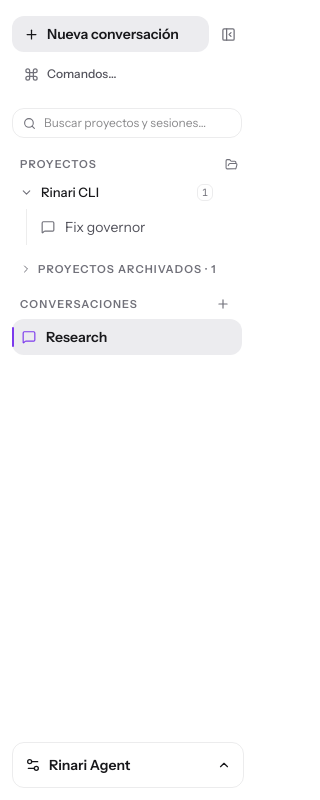
AppSidebar project and session lifecycle › separates project sessions from standalone chats and searches both
Expected: the text "Rinari CLI" is shown, [41, 184, 99, 200]
Expected: the text "Fix governor" is shown, [65, 218, 145, 236]
In the field with placeholder "Buscar proyectos y sesiones…": x=138, y=123 [44, 115, 231, 131], type "governor"
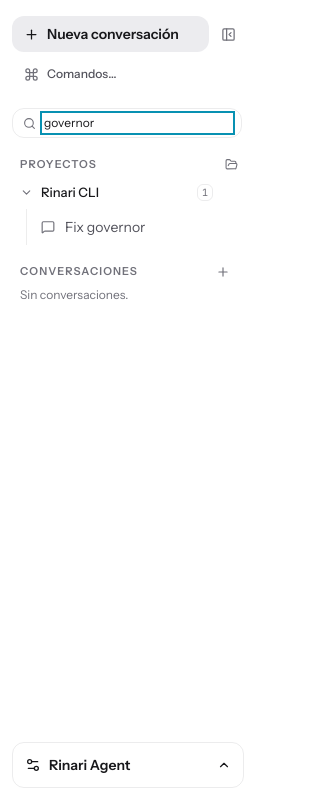
Expected: the text "Fix governor" is shown, [65, 218, 145, 236]
Expected: the button "Research" is gone
